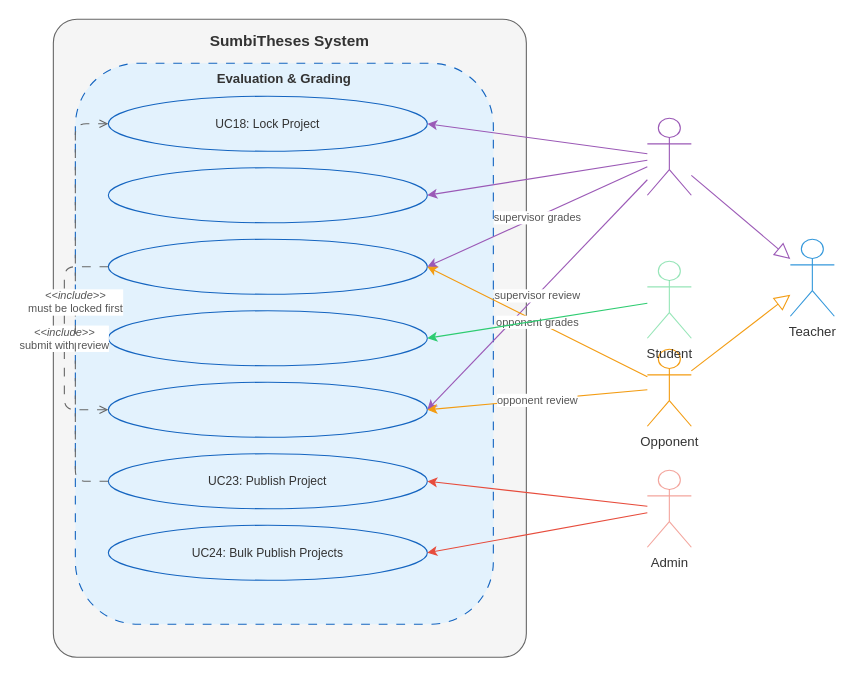
The diagram is 855 pixels wide and 677 high, and some of its shapes have lost their labels. Each missing label, with the centre of its shape:
"Supervisor" belongs at (x=668, y=156).
"UC19: Unlock Project" belongs at (x=267, y=195).
"UC20: Submit Grades" belongs at (x=267, y=266).
"UC21: View Grades" belongs at (x=267, y=338).
"UC22: Write Review (Posudek)" belongs at (x=267, y=409).
